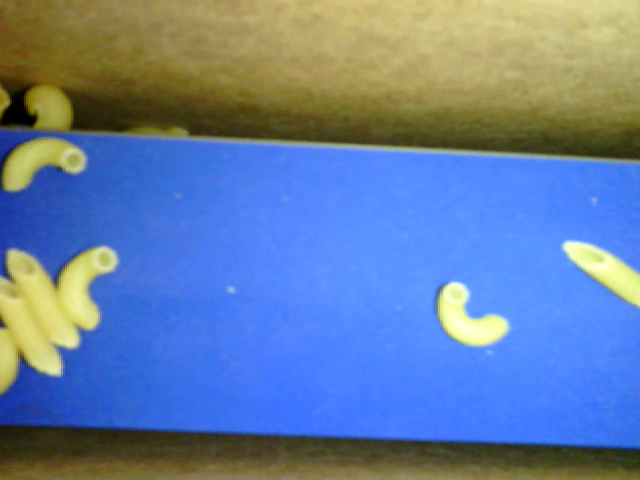elbow: (58, 246, 118, 332), (436, 281, 511, 346), (4, 138, 88, 192)
penne: (5, 247, 82, 350), (1, 277, 63, 376), (563, 240, 638, 306)
shell: (25, 85, 77, 129)
